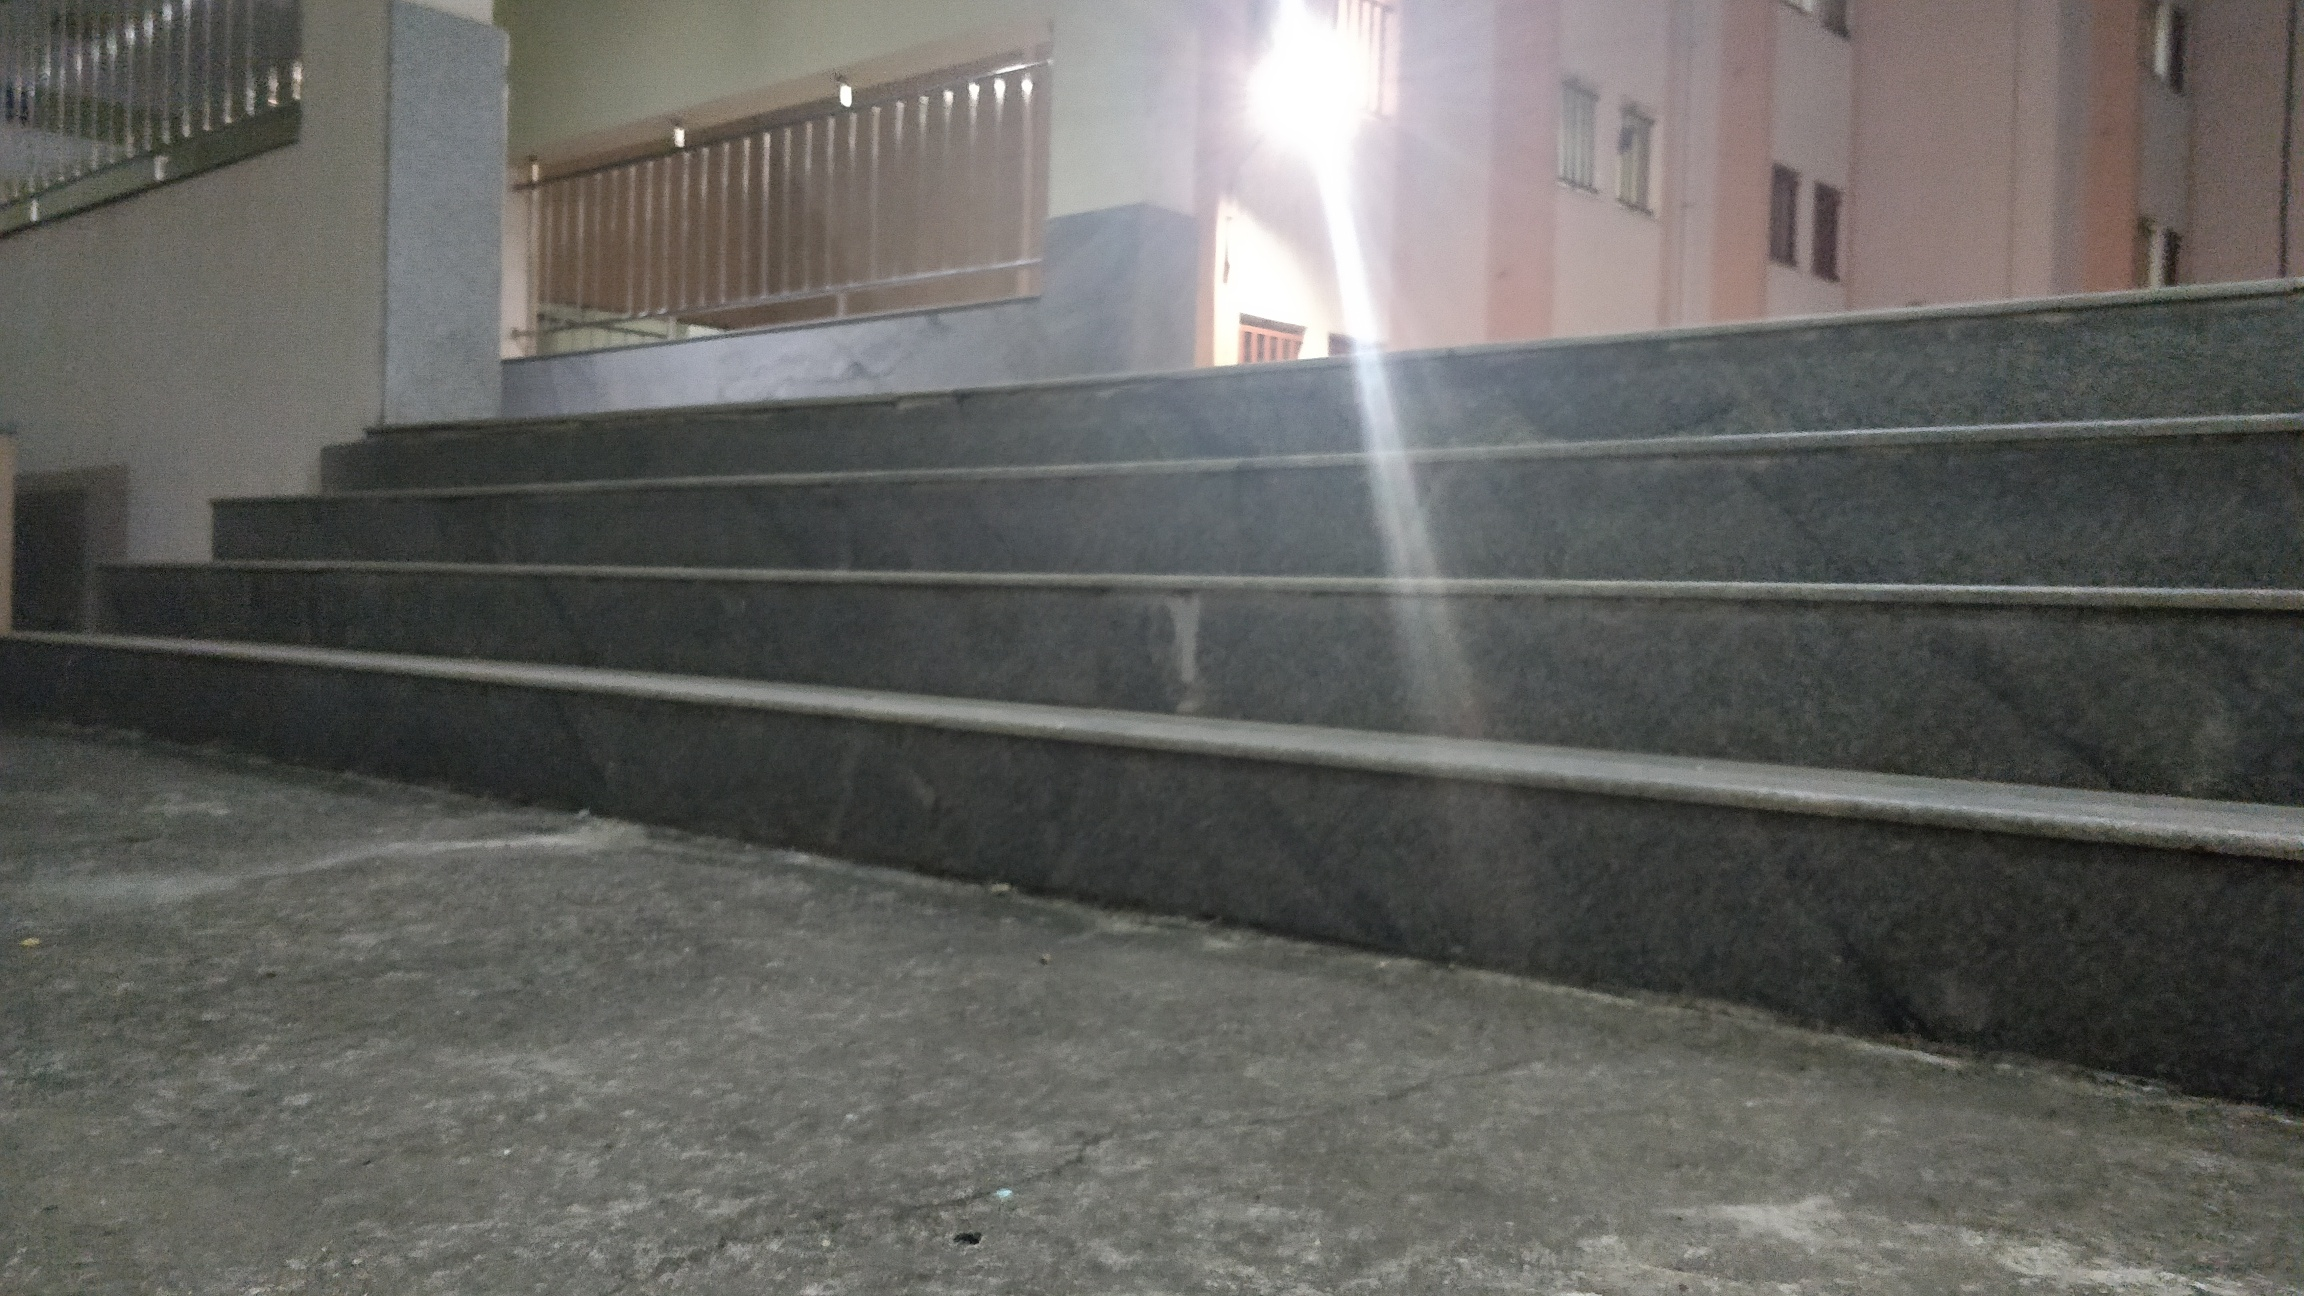stairs_up: (112, 291, 2266, 804)
